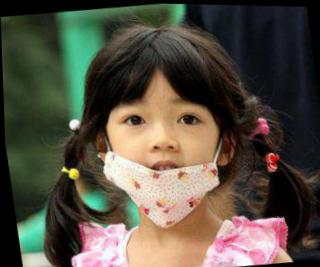WRONG: (99, 85, 234, 216)
